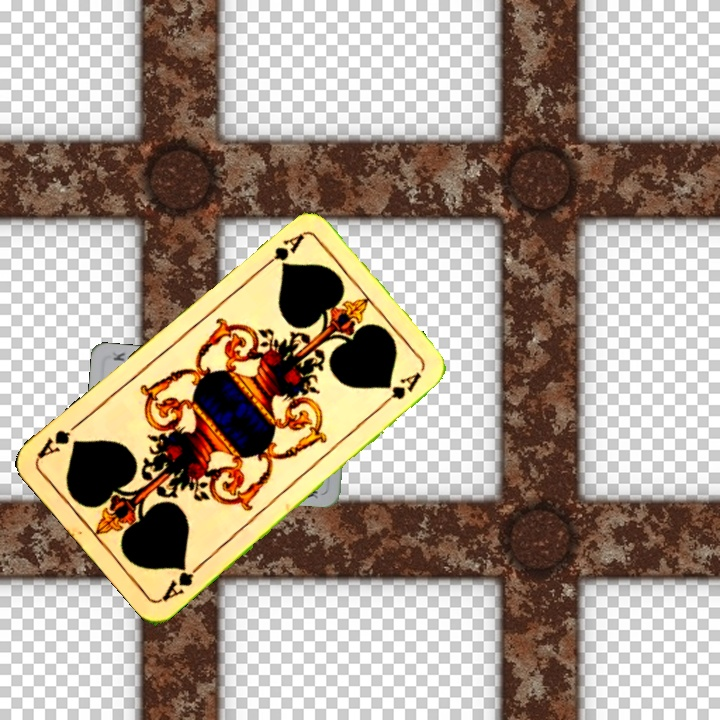GA: (157, 558, 206, 604), (257, 229, 307, 272)
